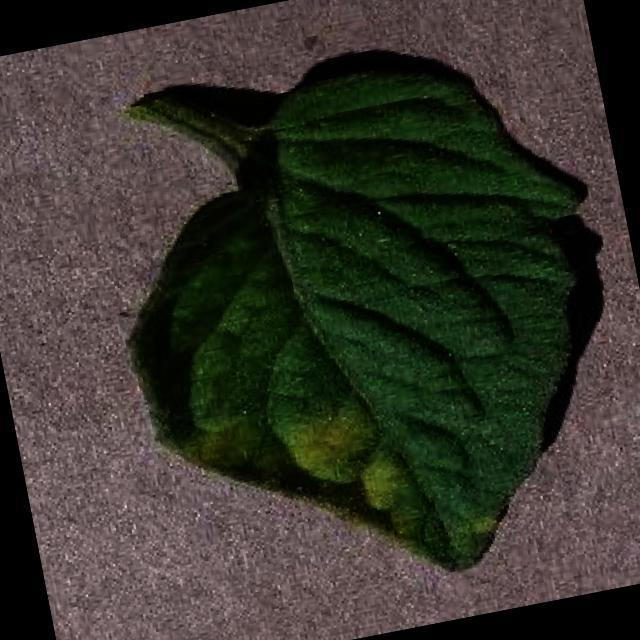Tomato mold leaf: (86, 33, 640, 627)
